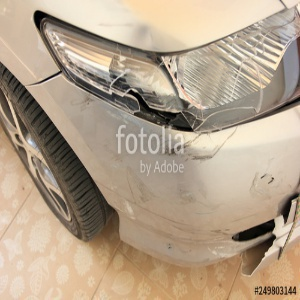head_lights: (45, 18, 300, 132)
